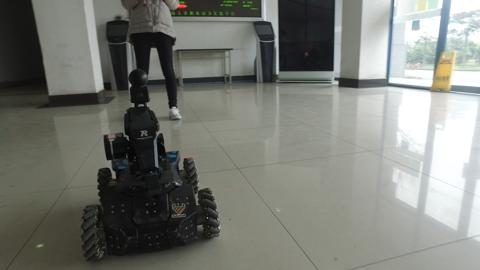chariot: (71, 63, 229, 266)
